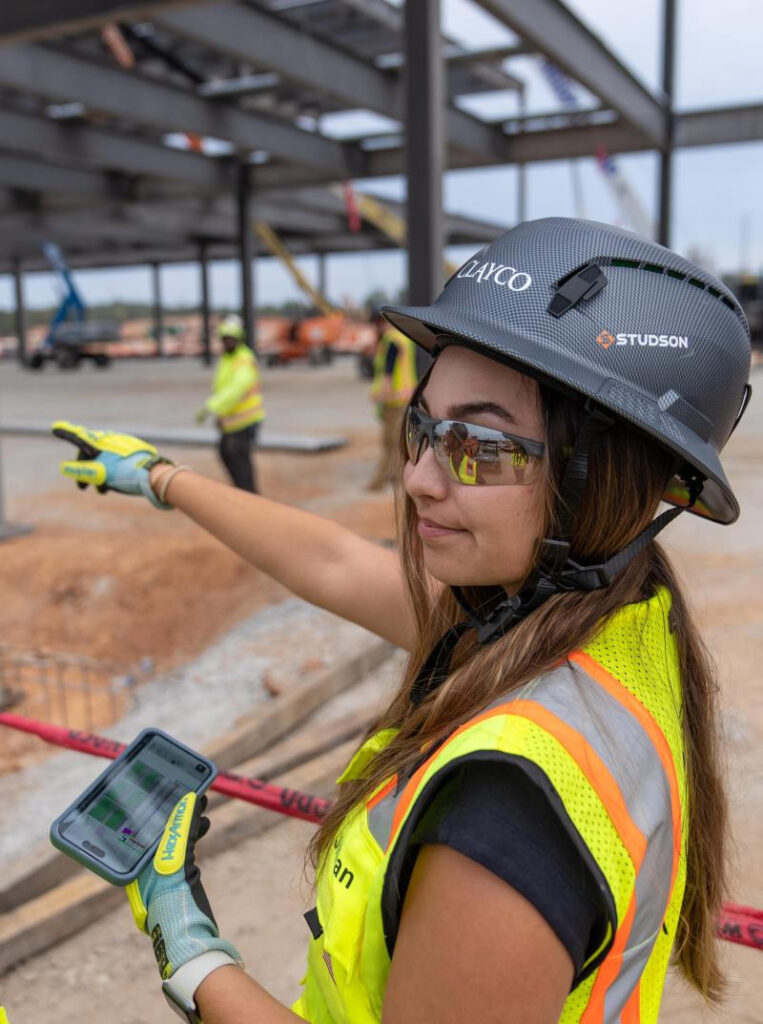Casco de seguridad: (386, 218, 750, 523)
